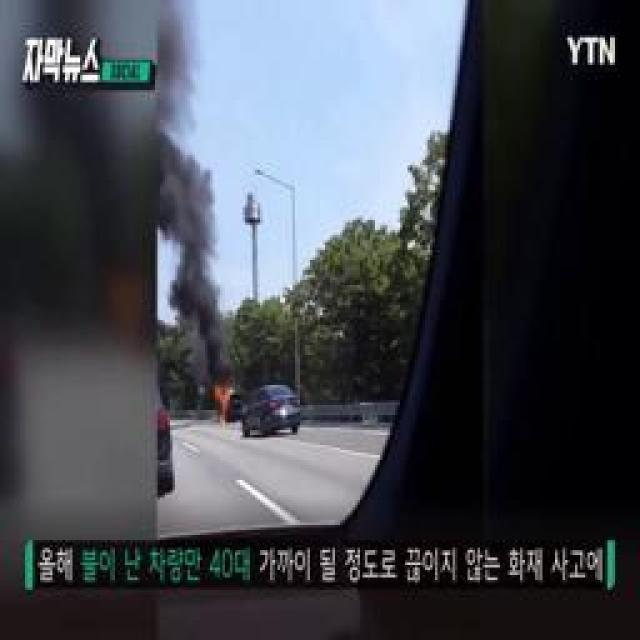Fire: (211, 389, 241, 423)
